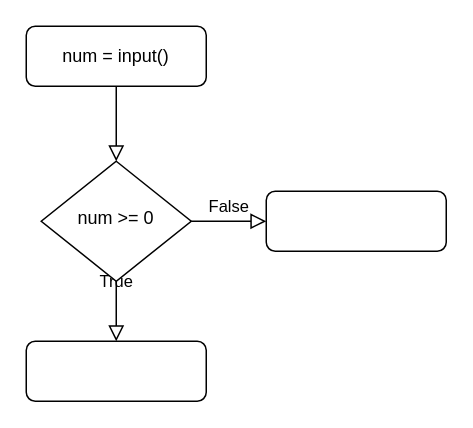
Image size: 473x428. Some labels were removed from this diagram. The centre of each missing label's shape, as x and y in pixels:
"Fehlermeldung" goes at point 355,220.
"print(math.sqrt(num))" goes at point 115,370.
